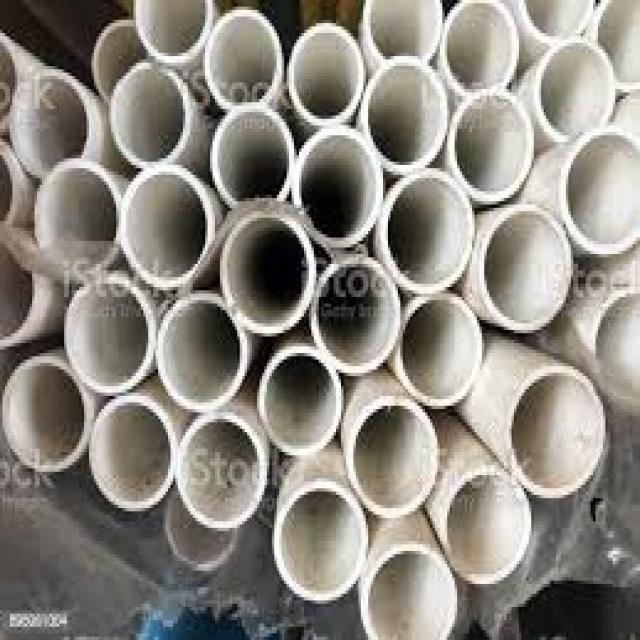pipe: (509, 366, 602, 497), (478, 206, 572, 330), (275, 485, 371, 598), (223, 211, 310, 334), (123, 164, 212, 283), (2, 355, 92, 470), (384, 174, 471, 292), (351, 401, 441, 514), (65, 276, 150, 393), (444, 471, 531, 582), (86, 399, 172, 511), (312, 258, 399, 368), (561, 131, 639, 253), (179, 412, 263, 525), (158, 298, 245, 407), (298, 130, 379, 243), (37, 160, 116, 275), (454, 91, 533, 205), (398, 295, 478, 406), (362, 64, 445, 168), (362, 549, 455, 640), (9, 73, 88, 176), (261, 351, 341, 452), (111, 66, 189, 167), (538, 40, 615, 139), (205, 15, 281, 109), (212, 111, 292, 199), (443, 1, 515, 93), (168, 492, 237, 565), (595, 292, 640, 398), (367, 0, 442, 61), (137, 0, 211, 58), (595, 0, 640, 90), (95, 22, 147, 98), (522, 1, 590, 42)
